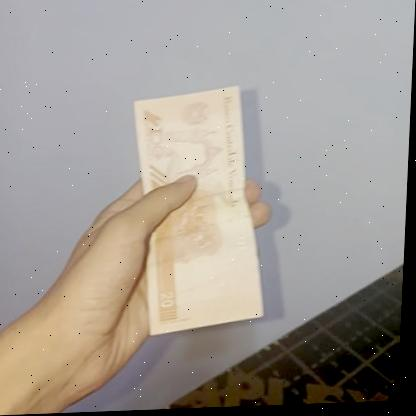twenty-back-vef: (126, 85, 272, 337)
